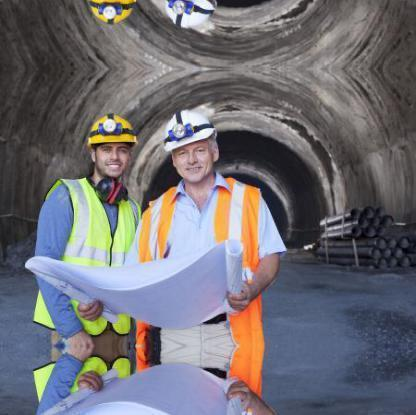helmet: (160, 105, 220, 153), (84, 113, 137, 151)
